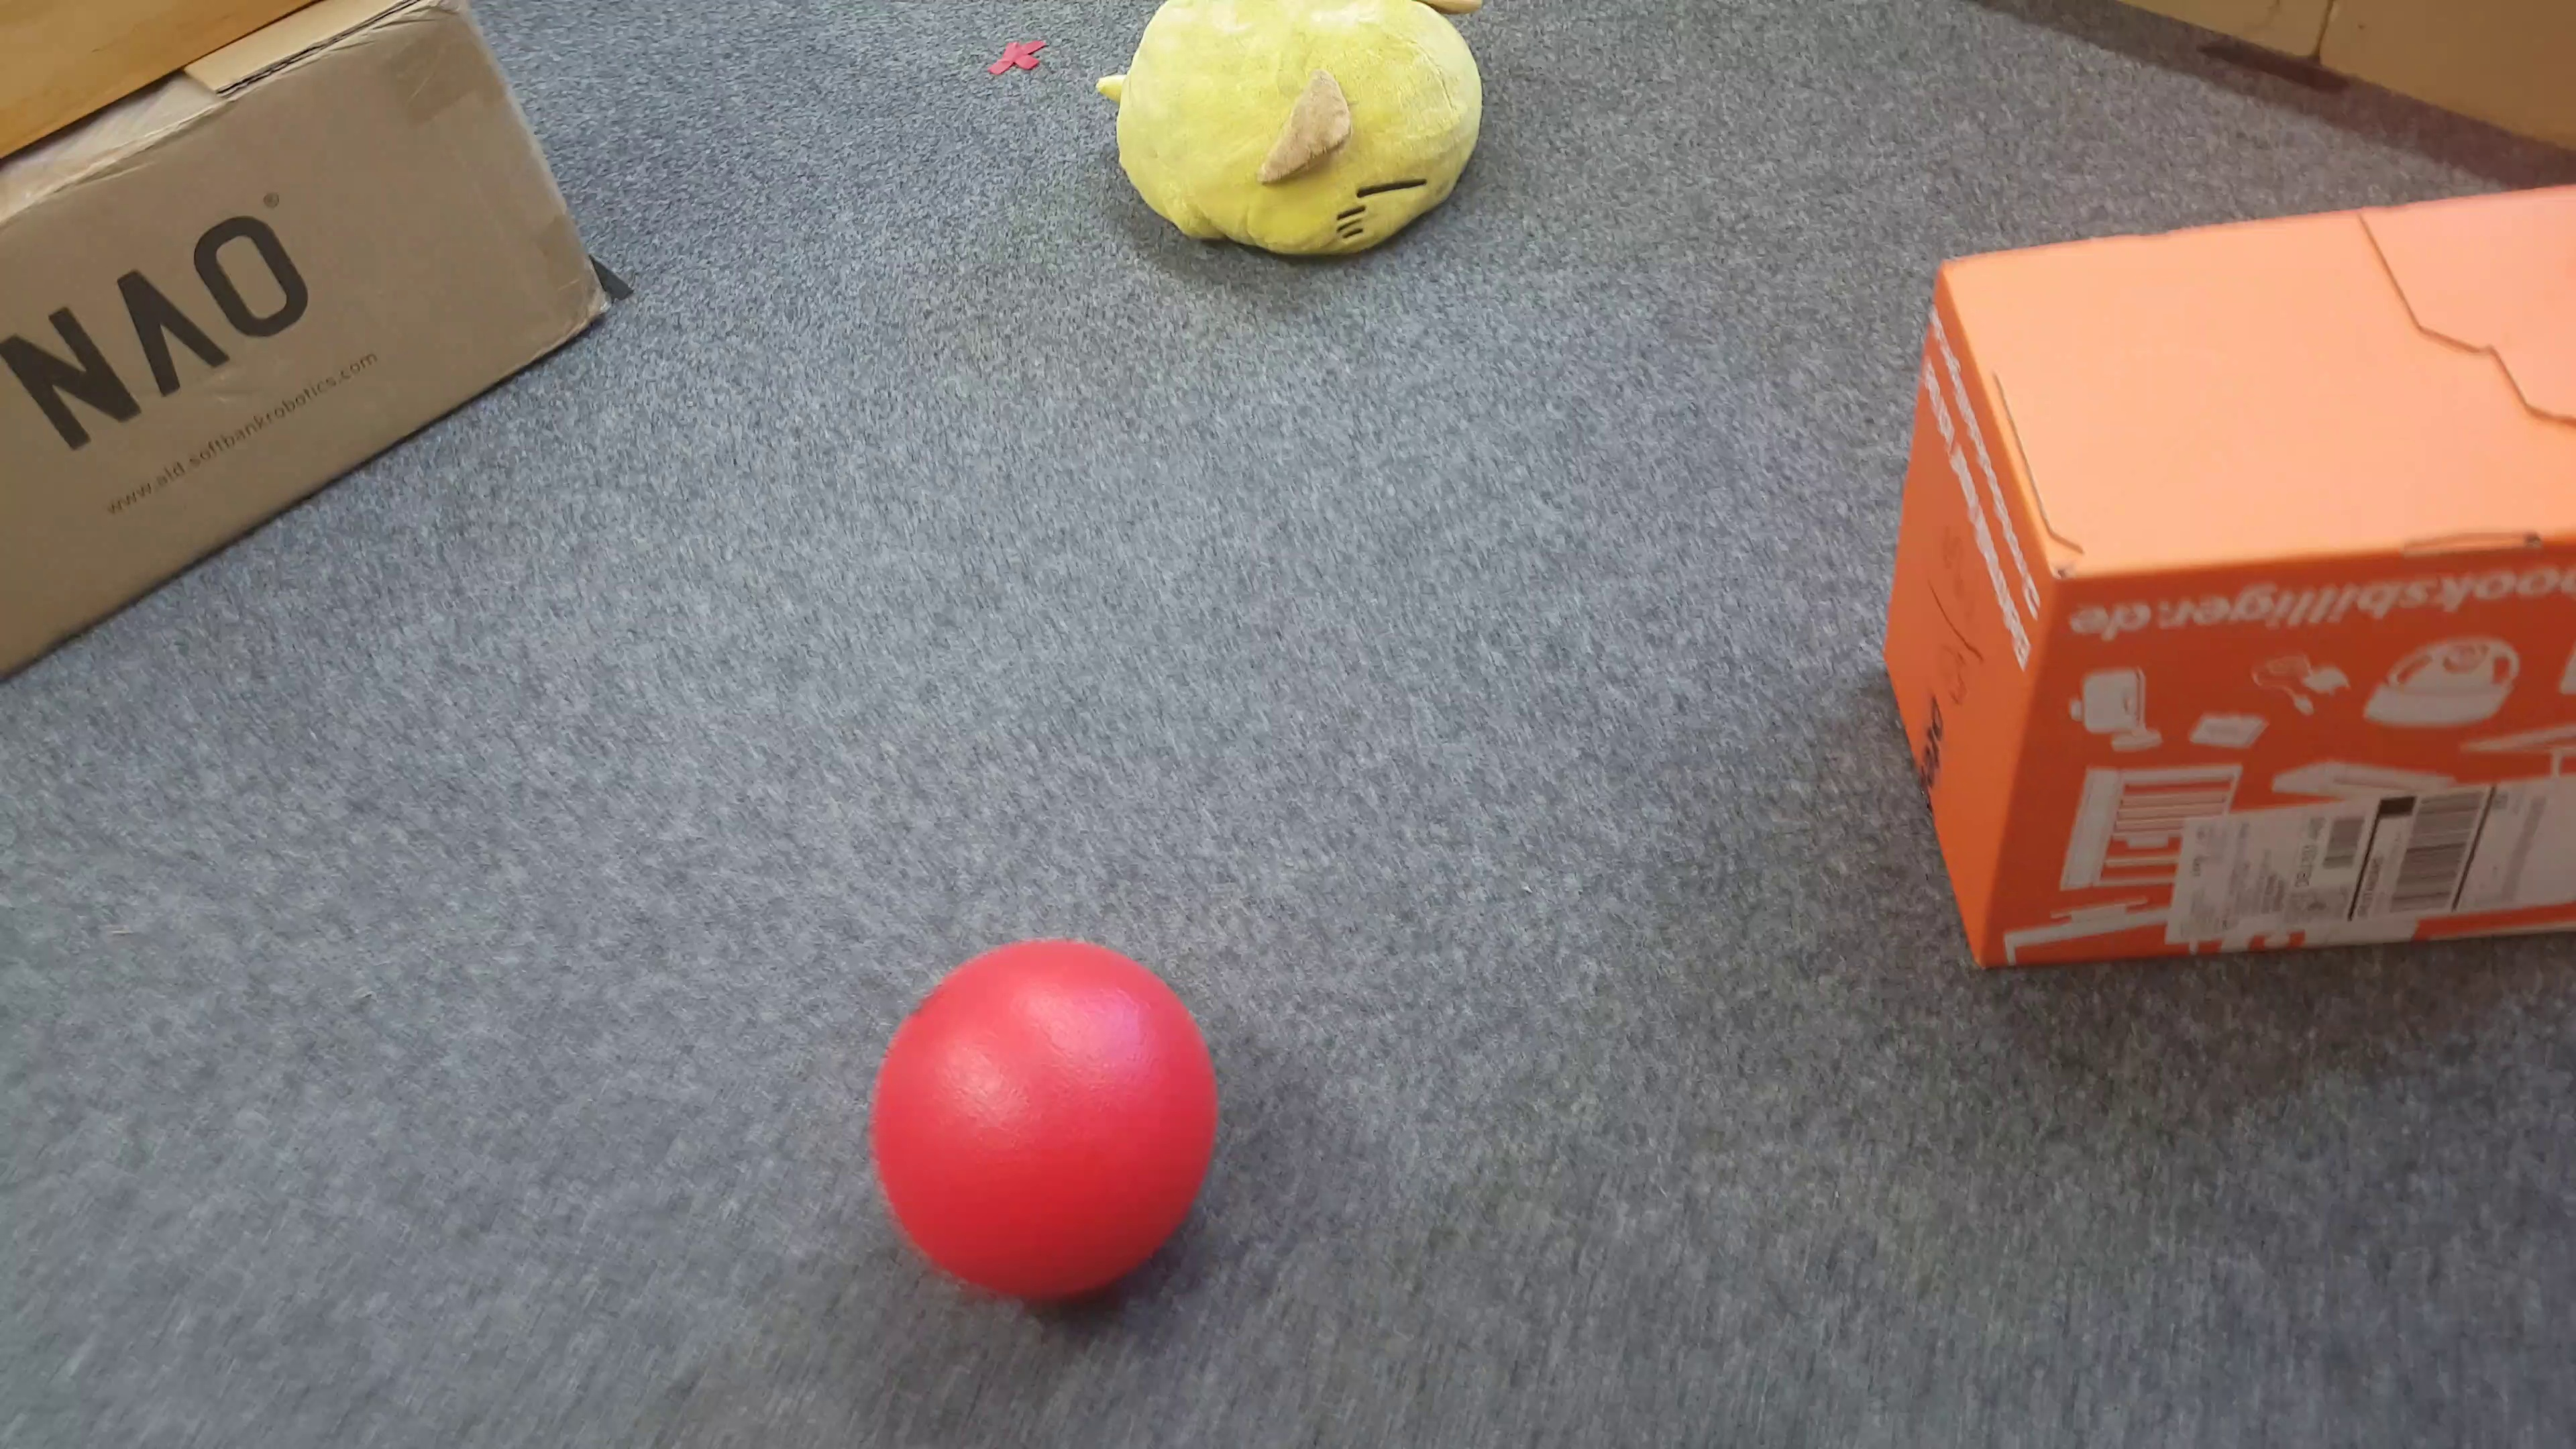grasp: (1097, 2, 1486, 269)
kick: (865, 932, 1223, 1302)
push: (1884, 173, 2576, 971)
